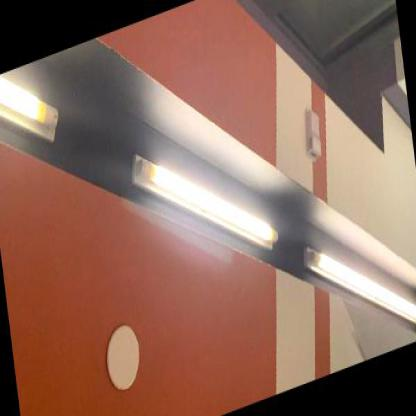light_on: (119, 84, 284, 310), (294, 187, 415, 373), (0, 53, 69, 178)
